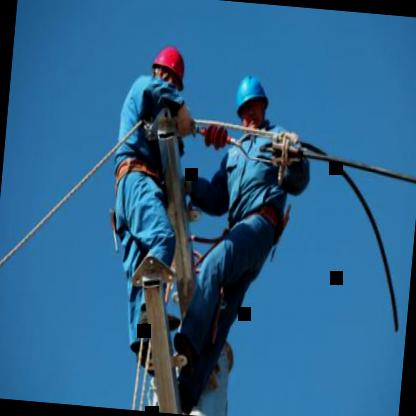helmet: (228, 70, 274, 138), (148, 42, 188, 94)
